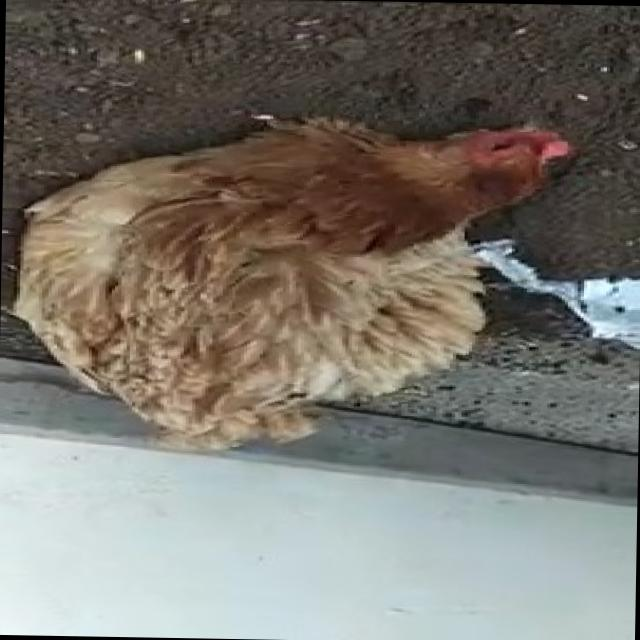stand bath: (0, 97, 589, 463)
